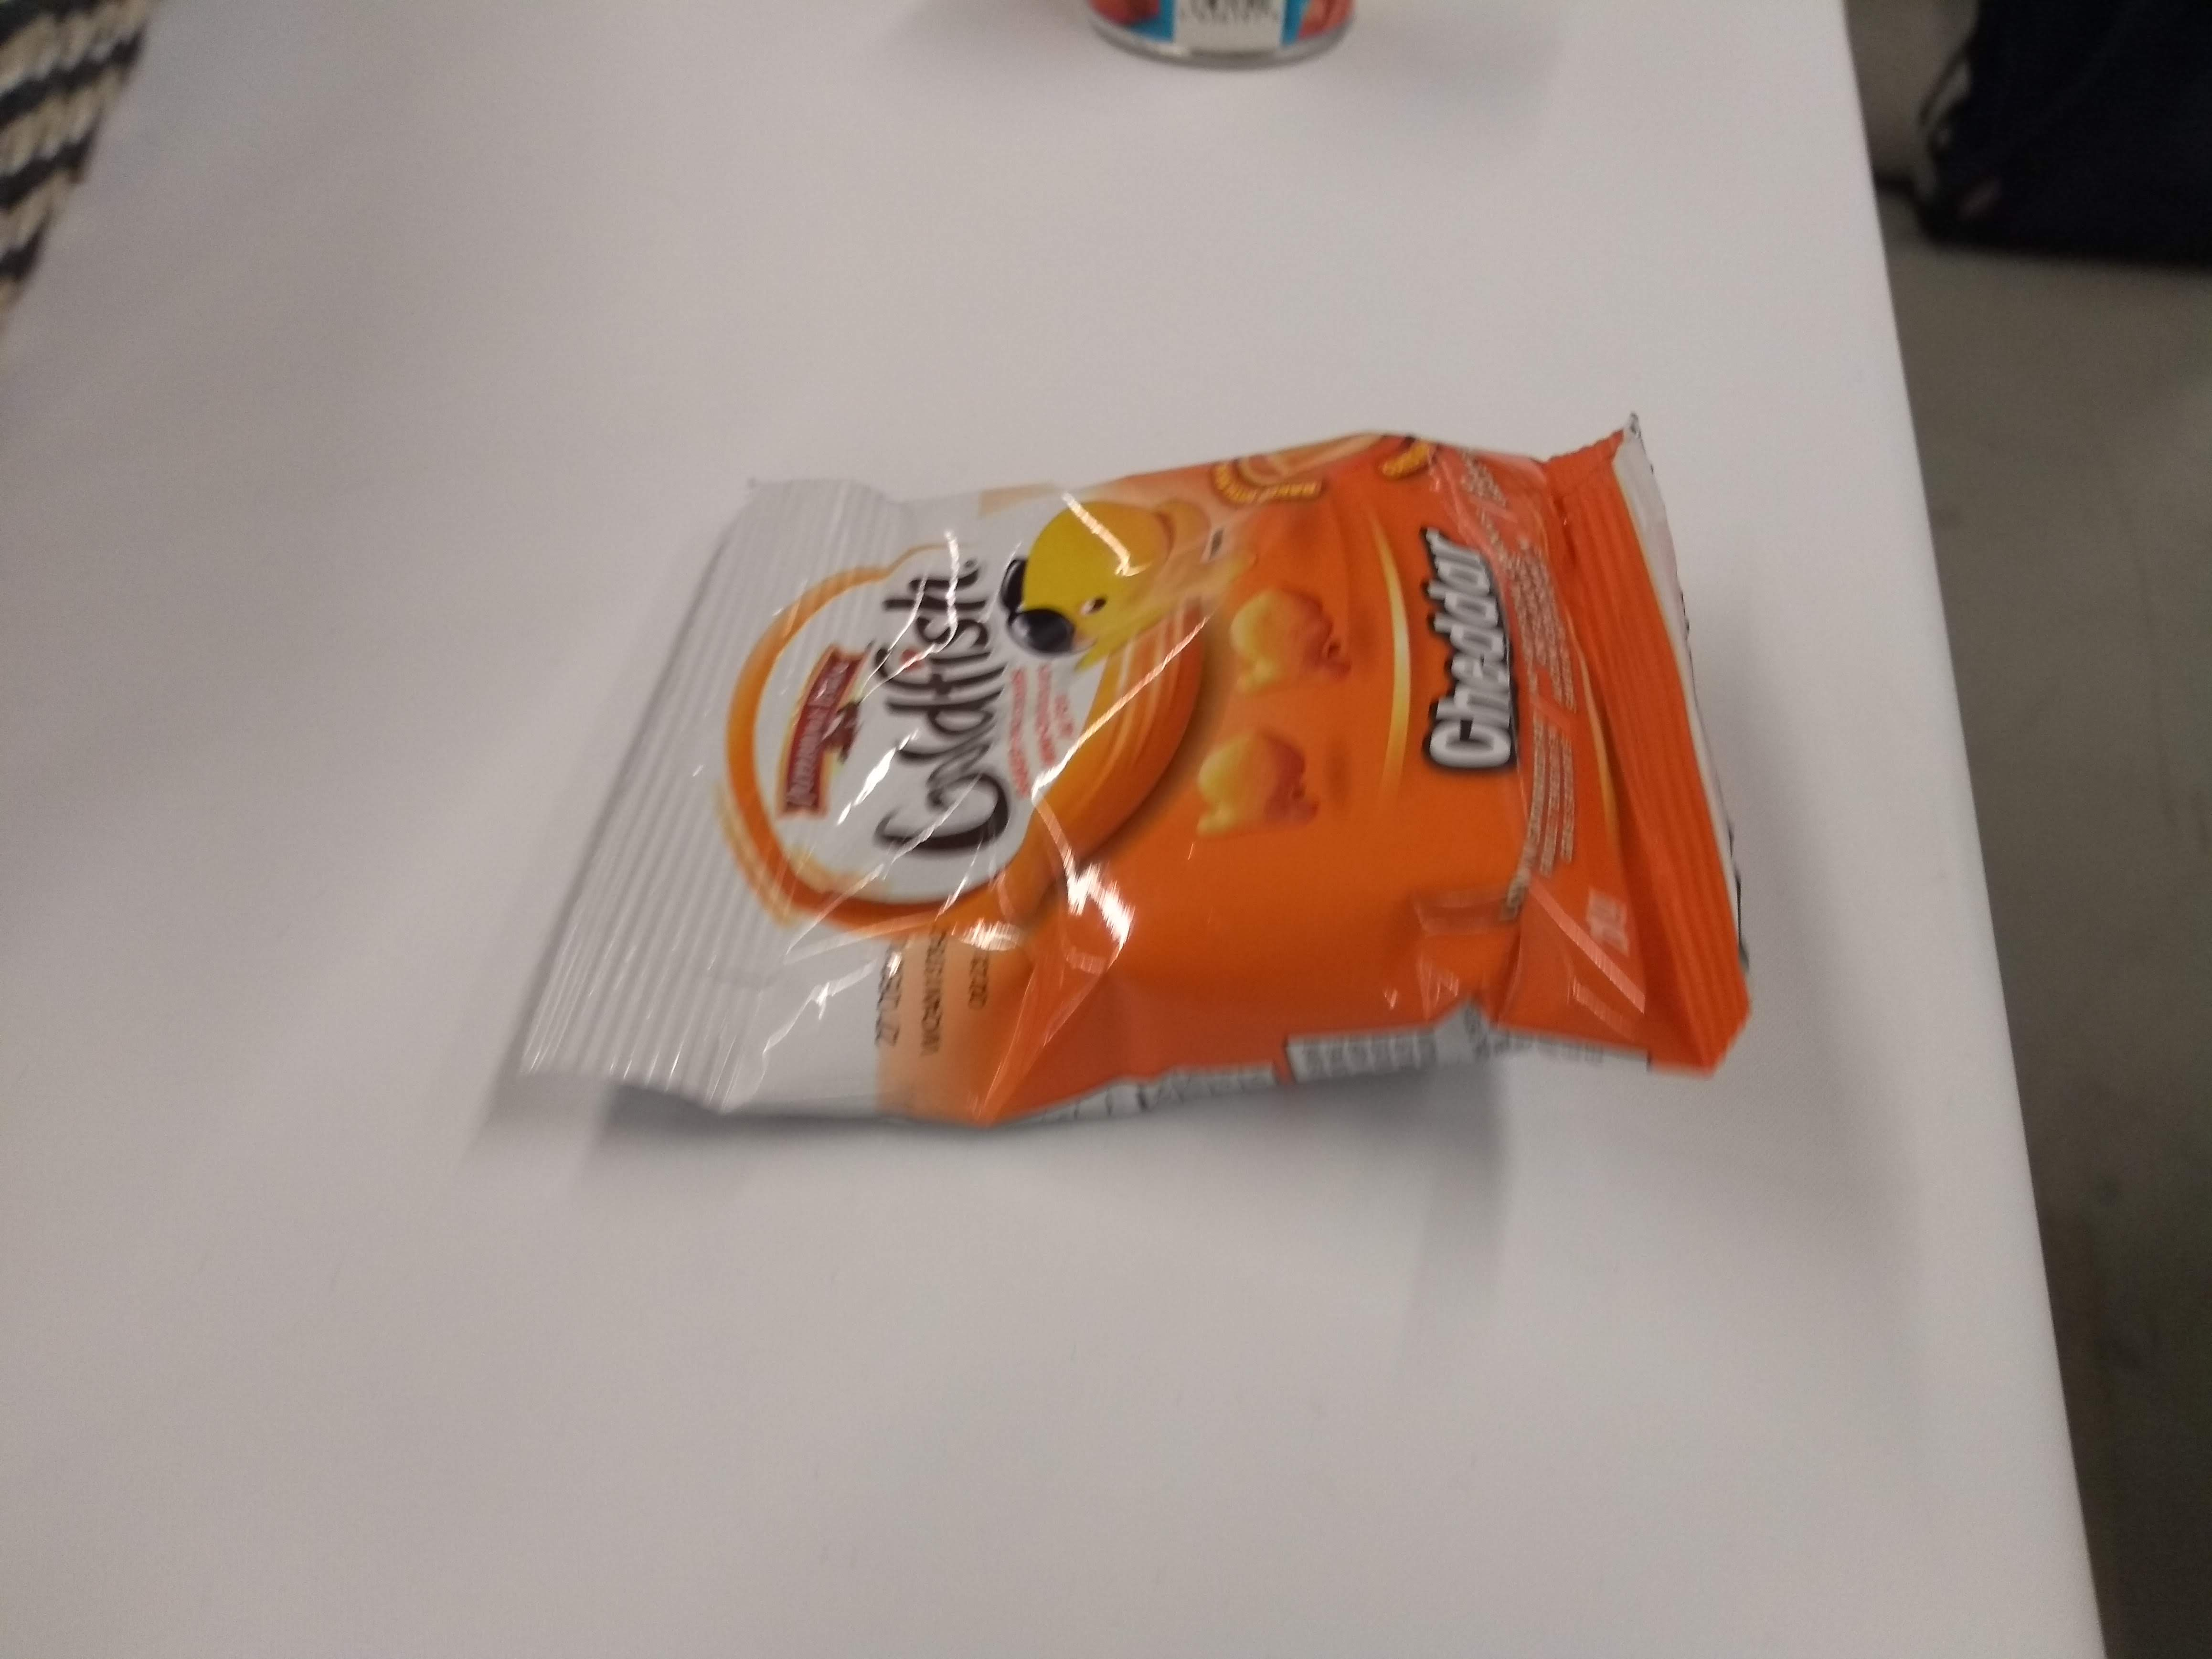crackers: (489, 387, 1766, 1140)
